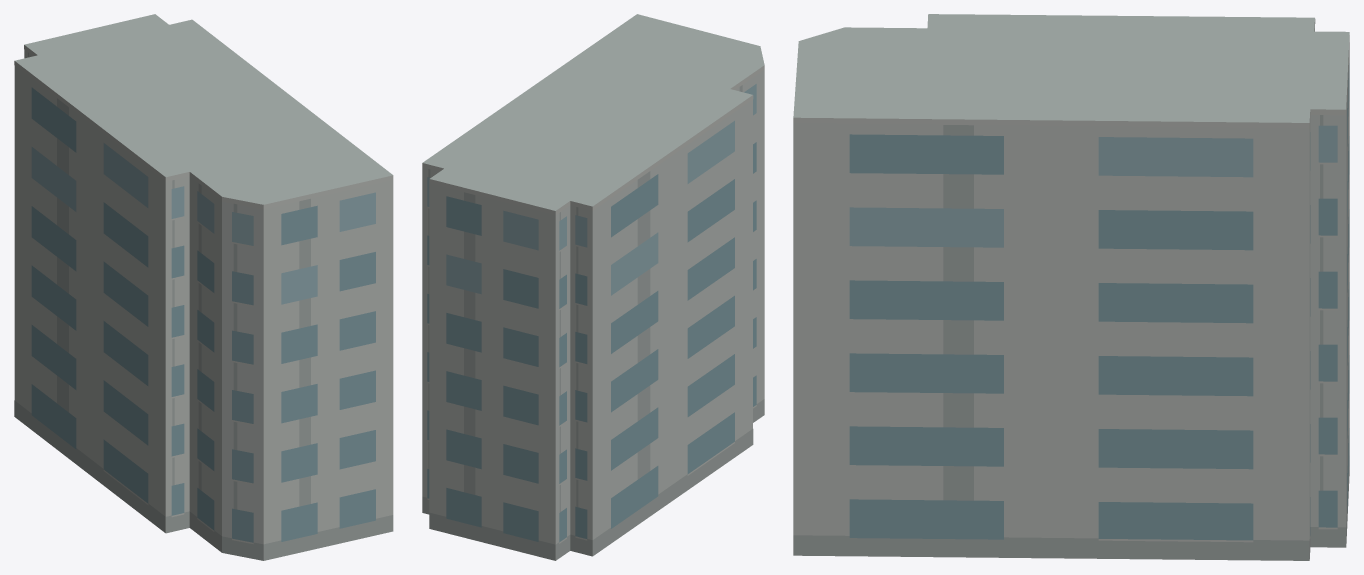
Rendered from survey-upis-32564868.glb.
The picture shows the model from 3 angles, left to right: view 1: azimuth 30°, elevation 25°; view 2: azimuth 150°, elevation 25°; view 3: azimuth 270°, elevation 25°; orthographic projection. The views are drawn at different scales.
Parts seen in each view (by area): view 1: survey-upis-32564868.tmp; view 2: survey-upis-32564868.tmp; view 3: survey-upis-32564868.tmp.
Boxes of the visible parts, bbox=[...] form: survey-upis-32564868.tmp: bbox=[14, 14, 393, 560]; survey-upis-32564868.tmp: bbox=[422, 14, 764, 560]; survey-upis-32564868.tmp: bbox=[793, 14, 1349, 560].
Size of the model in its own units: 10.1 by 18.9 by 21.77.
